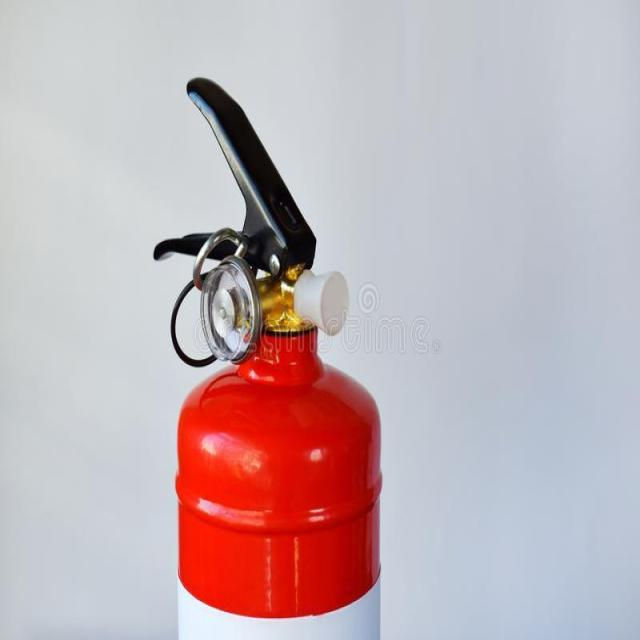fire_extinguisher: (149, 71, 383, 638)
